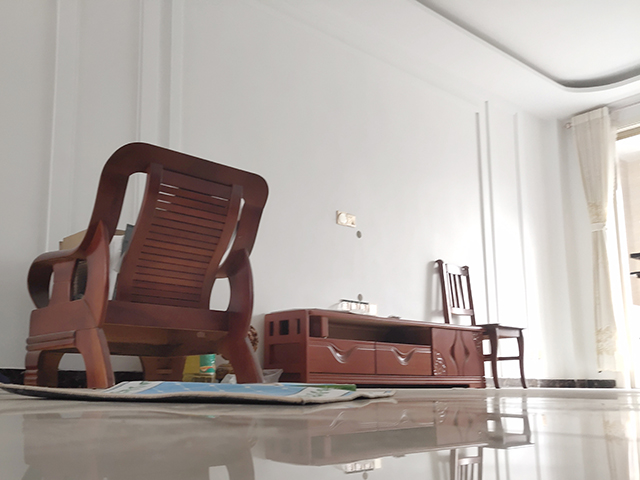book: (276, 380, 357, 391)
cabinet: (262, 308, 488, 390)
carpet: (1, 378, 397, 405)
curtain: (569, 105, 636, 377)
sofa: (21, 141, 270, 392)
stool: (435, 257, 528, 390)
